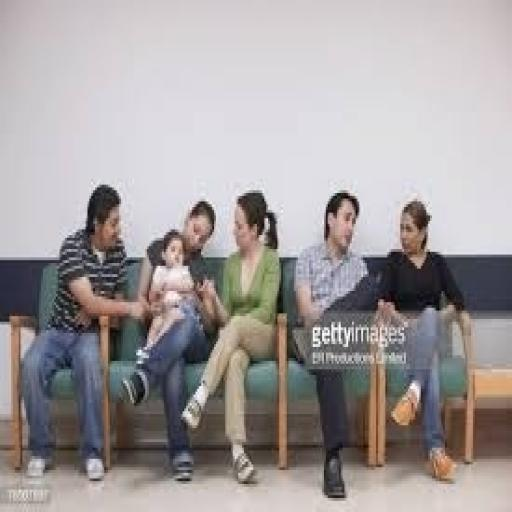sitting: (19, 179, 469, 492), (19, 182, 149, 481), (179, 187, 283, 484), (117, 196, 218, 481), (372, 196, 466, 484), (291, 187, 376, 498)
